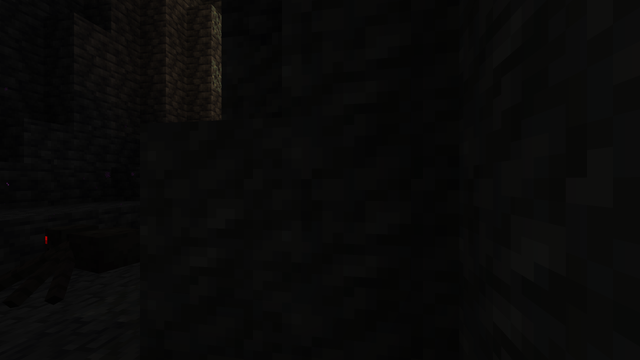araignees: (13, 216, 125, 301)
